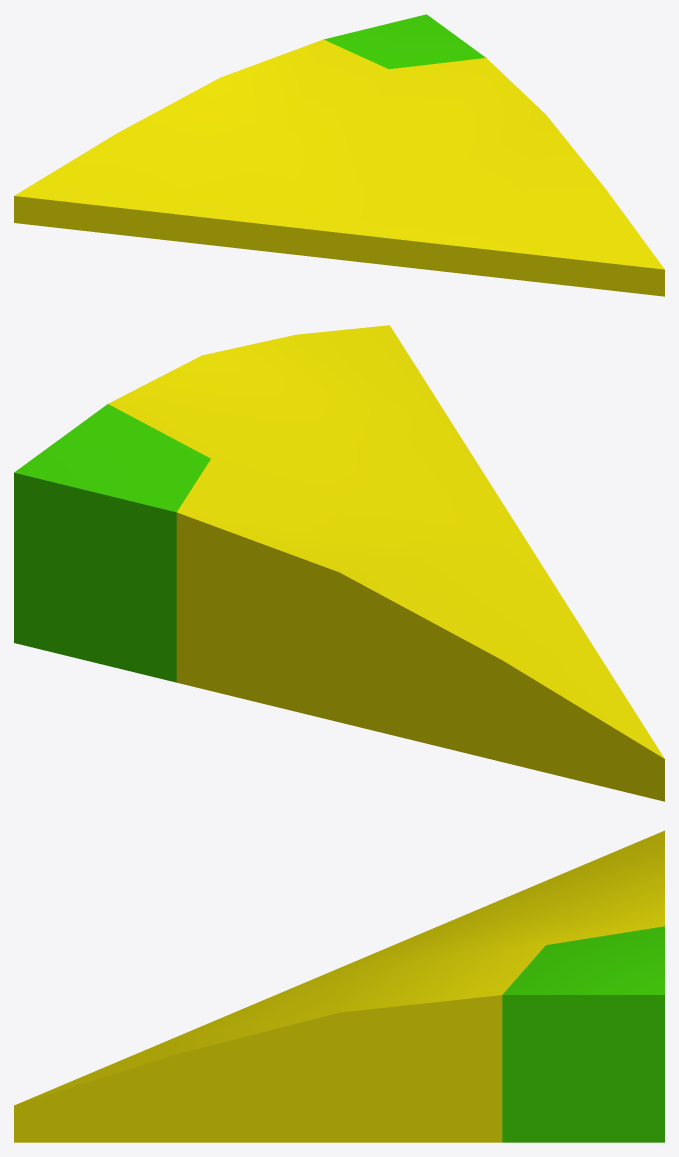
Rendered from corner_corner.fbx.
The picture shows the model from 3 angles, top to bottom: view 1: azimuth 30°, elevation 25°; view 2: azimuth 150°, elevation 25°; view 3: azimuth 270°, elevation 25°; orthographic projection. The views are drawn at different scales.
Visible parts, largest first — view 1: Box001; view 2: Box001; view 3: Box001.
Boxes of the visible parts, box(x1,y1,x2,y2) form: Box001: box(14, 14, 664, 296); Box001: box(14, 325, 664, 801); Box001: box(14, 830, 664, 1142).
Bounding box in the file's own units: 160 × 40 × 160.
